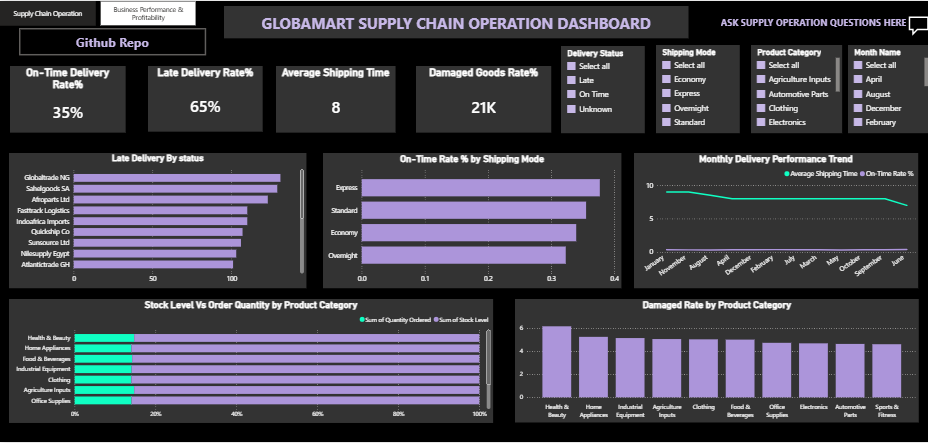

The dashboard page shown, as its layout file describes it:
{"tool":"powerbi","page":{"name":"Supply Chain Operation","canvas":[1900,900],"ordinal":0},"visuals":[{"type":"cardVisual","title":"On-Time Delivery Rate%","fields":{"Data":["CleanedData.On-Time Rate %"]},"box":[20,132,236,136],"z":0},{"type":"cardVisual","title":"Late Delivery Rate%","fields":{"Data":["CleanedData.Late Rate %"]},"box":[302,132,234,134],"z":1000},{"type":"barChart","title":"Late Delivery By status","fields":{"Category":["CleanedData.Supplier"],"Y":["CountNonNull(CleanedData.Is Late)"]},"box":[19,310.3,606.9,275.9],"z":2000},{"type":"clusteredBarChart","fields":{"Category":["CleanedData.Shipping Mode"],"Y":["CleanedData.On-Time Rate %"]},"box":[658.6,310.3,608.6,275.9],"z":3000},{"type":"lineChart","title":"Monthly Delivery Performance Trend","fields":{"Category":["CleanedData.Month Name"],"Y":["CleanedData.Average Shipping Time","CleanedData.On-Time Rate %"]},"box":[1293.9,310.2,579.6,275.5],"z":4000},{"type":"columnChart","title":"Damaged Rate by Product Category","fields":{"Category":["CleanedData.Product Category"],"Y":["Sum(CleanedData.Damaged Rate)"]},"box":[1050,608.6,824.1,251.7],"z":5000},{"type":"hundredPercentStackedBarChart","title":"Stock Level Vs Order Quantity by Product Category","fields":{"Category":["CleanedData.Product Category"],"Y":["Sum(CleanedData.Quantity Ordered)","Sum(CleanedData.Stock Level)"]},"box":[19,608.6,987.9,253.4],"z":6000},{"type":"cardVisual","title":"Average Shipping Time","fields":{"Data":["CleanedData.Average Shipping Time"]},"box":[564,132,244,136],"z":7000},{"type":"cardVisual","title":"Damaged Goods Rate%","fields":{"Data":["Sum(CleanedData.Damaged Goods)"]},"box":[848,132,276,136],"z":8000},{"type":"pageNavigator","box":[0,0,400,50],"z":9000},{"type":"shape","box":[458,10,948,66],"z":10000},{"type":"actionButton","box":[1420,10,480,66],"z":11000},{"type":"slicer","fields":{"Values":["CleanedData.Delivery Status"]},"box":[1144.9,91.8,171.4,177.6],"z":12000},{"type":"slicer","fields":{"Values":["CleanedData.Shipping Mode"]},"box":[1338.8,89.8,171.4,179.6],"z":13000},{"type":"slicer","fields":{"Values":["CleanedData.Product Category"]},"box":[1532.7,89.8,185.7,179.6],"z":14000},{"type":"slicer","fields":{"Values":["CleanedData.Month Name"]},"box":[1730.6,89.8,169.4,179.6],"z":15000},{"type":"actionButton","box":[38,56,382,56],"z":16000}]}

Visuals, with their boxes in screenshot pixels (x1, y1, x2, y2), scaled from the page's 1900x900 canvas onto the 928x443 screenshot:
"On-Time Delivery Rate%" cardVisual: [x1=10, y1=65, x2=125, y2=132]
"Late Delivery Rate%" cardVisual: [x1=148, y1=65, x2=262, y2=131]
"Late Delivery By status" barChart: [x1=9, y1=153, x2=306, y2=289]
clusteredBarChart - CleanedData.Shipping Mode x CleanedData.On-Time Rate %: [x1=322, y1=153, x2=619, y2=289]
"Monthly Delivery Performance Trend" lineChart: [x1=632, y1=153, x2=915, y2=288]
"Damaged Rate by Product Category" columnChart: [x1=513, y1=300, x2=915, y2=423]
"Stock Level Vs Order Quantity by Product Category" hundredPercentStackedBarChart: [x1=9, y1=300, x2=492, y2=424]
"Average Shipping Time" cardVisual: [x1=275, y1=65, x2=395, y2=132]
"Damaged Goods Rate%" cardVisual: [x1=414, y1=65, x2=549, y2=132]
pageNavigator: [x1=0, y1=0, x2=195, y2=25]
shape: [x1=224, y1=5, x2=687, y2=37]
actionButton: [x1=694, y1=5, x2=927, y2=37]
slicer - CleanedData.Delivery Status: [x1=559, y1=45, x2=643, y2=133]
slicer - CleanedData.Shipping Mode: [x1=654, y1=44, x2=738, y2=133]
slicer - CleanedData.Product Category: [x1=749, y1=44, x2=839, y2=133]
slicer - CleanedData.Month Name: [x1=845, y1=44, x2=927, y2=133]
actionButton: [x1=19, y1=28, x2=205, y2=55]
